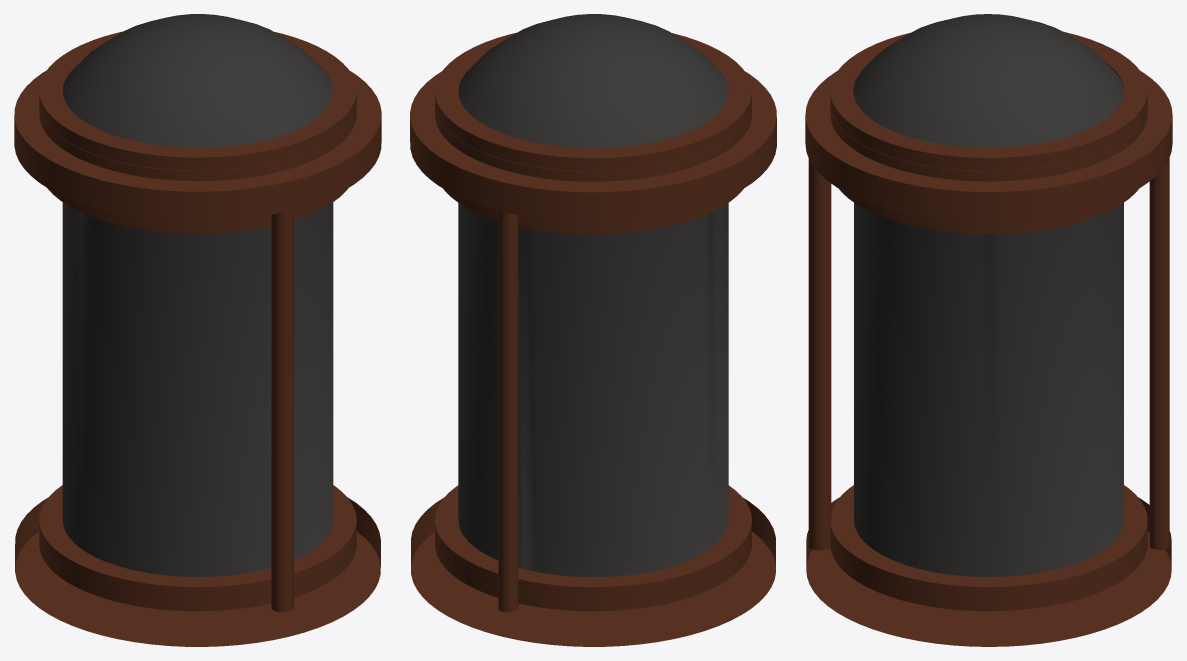
The model's file is TimeCapsule.glb.
3 views of the same model, side by side, from view 1: azimuth 30°, elevation 25°; view 2: azimuth 150°, elevation 25°; view 3: azimuth 270°, elevation 25° (orthographic).
Parts seen in each view (by area): view 1: Cylinder.003, Sphere.001, Cylinder.006, Cylinder.001, Cylinder.002, Cylinder.005, Cylinder, Cylinder.008, Cylinder.004; view 2: Cylinder.003, Sphere.001, Cylinder.006, Cylinder.001, Cylinder.002, Cylinder.005, Cylinder.007, Cylinder.008, Cylinder.004; view 3: Cylinder.003, Sphere.001, Cylinder.006, Cylinder.001, Cylinder.002, Cylinder.005, Cylinder, Cylinder.007, Cylinder.008, Cylinder.004.
Part boxes in pixels (left/top/right/bottom): Cylinder.003: left=62, top=202, right=333, bottom=576; Sphere.001: left=63, top=14, right=333, bottom=147; Cylinder.006: left=14, top=70, right=381, bottom=221; Cylinder.001: left=15, top=497, right=380, bottom=646; Cylinder.002: left=39, top=485, right=356, bottom=611; Cylinder.005: left=39, top=31, right=356, bottom=170; Cylinder: left=271, top=210, right=293, bottom=612; Cylinder.008: left=39, top=106, right=356, bottom=181; Cylinder.004: left=47, top=188, right=348, bottom=233; Cylinder.003: left=458, top=203, right=728, bottom=577; Sphere.001: left=458, top=14, right=728, bottom=148; Cylinder.006: left=410, top=71, right=776, bottom=221; Cylinder.001: left=411, top=498, right=775, bottom=646; Cylinder.002: left=435, top=485, right=751, bottom=611; Cylinder.005: left=435, top=32, right=751, bottom=171; Cylinder.007: left=498, top=210, right=518, bottom=612; Cylinder.008: left=435, top=106, right=751, bottom=181; Cylinder.004: left=443, top=189, right=743, bottom=234; Cylinder.003: left=854, top=203, right=1123, bottom=576; Sphere.001: left=853, top=14, right=1123, bottom=147; Cylinder.006: left=805, top=71, right=1172, bottom=221; Cylinder.001: left=806, top=497, right=1171, bottom=646; Cylinder.002: left=830, top=485, right=1147, bottom=611; Cylinder.005: left=830, top=31, right=1147, bottom=170; Cylinder: left=808, top=159, right=831, bottom=550; Cylinder.007: left=1149, top=158, right=1169, bottom=549; Cylinder.008: left=830, top=105, right=1147, bottom=181; Cylinder.004: left=839, top=189, right=1138, bottom=234.
Size of the model in its own units: 2 by 3.24 by 2.
